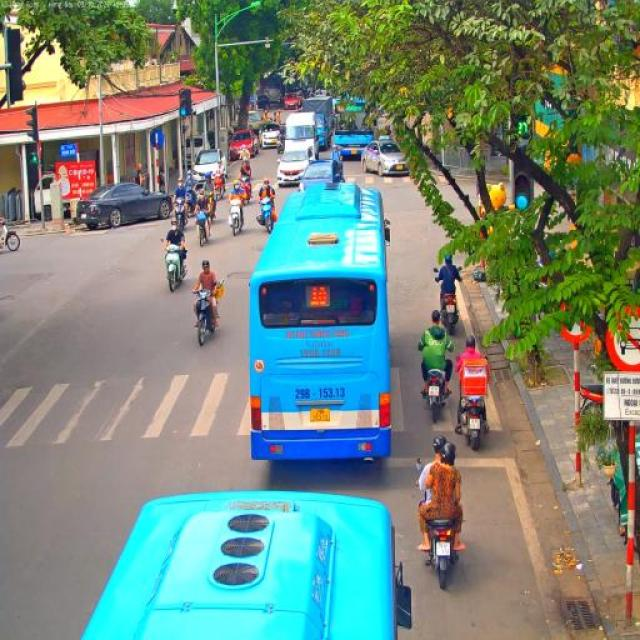bus: (80, 489, 415, 640), (248, 180, 392, 470), (331, 92, 377, 158)
car: (75, 181, 174, 230), (362, 139, 411, 177), (283, 112, 319, 159), (299, 158, 346, 193), (276, 148, 316, 186), (190, 149, 222, 187), (228, 129, 260, 159), (259, 122, 281, 149), (246, 110, 263, 130), (284, 92, 300, 110)
motorcycle: (415, 460, 461, 590), (192, 279, 224, 346), (432, 266, 462, 336), (457, 394, 491, 450), (420, 368, 450, 423), (162, 239, 189, 292), (194, 203, 214, 247), (256, 198, 279, 234), (0, 216, 20, 254), (227, 197, 245, 236), (171, 196, 189, 230), (236, 177, 254, 205), (186, 186, 200, 217), (211, 172, 224, 202), (274, 132, 285, 154)
truck: (302, 94, 336, 150), (267, 70, 284, 104)
